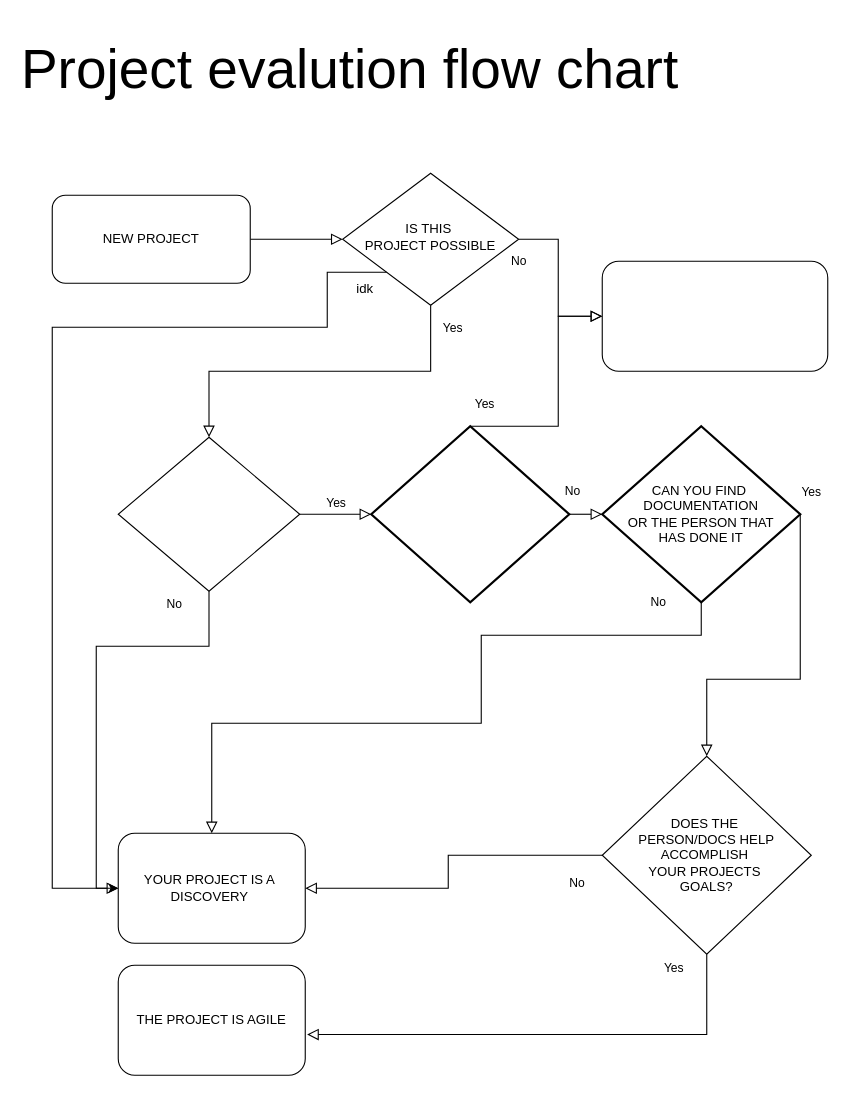
The diagram is 847 pixels wide and 1095 high, and some of its shapes have lost their labels. The shapes that lost their labels are listed below. From the top down, each one's centre as x and y in pixels, then its label:
[714,315]: QUIT / USE THEIR PROJECT / DO SOMETHING ELSE
[208,513]: HAS IT BEEN DONE BEFORE?
[470,514]: DOES THEIR PROJECT ACCOMPLISH THE EXACT SAME THING
